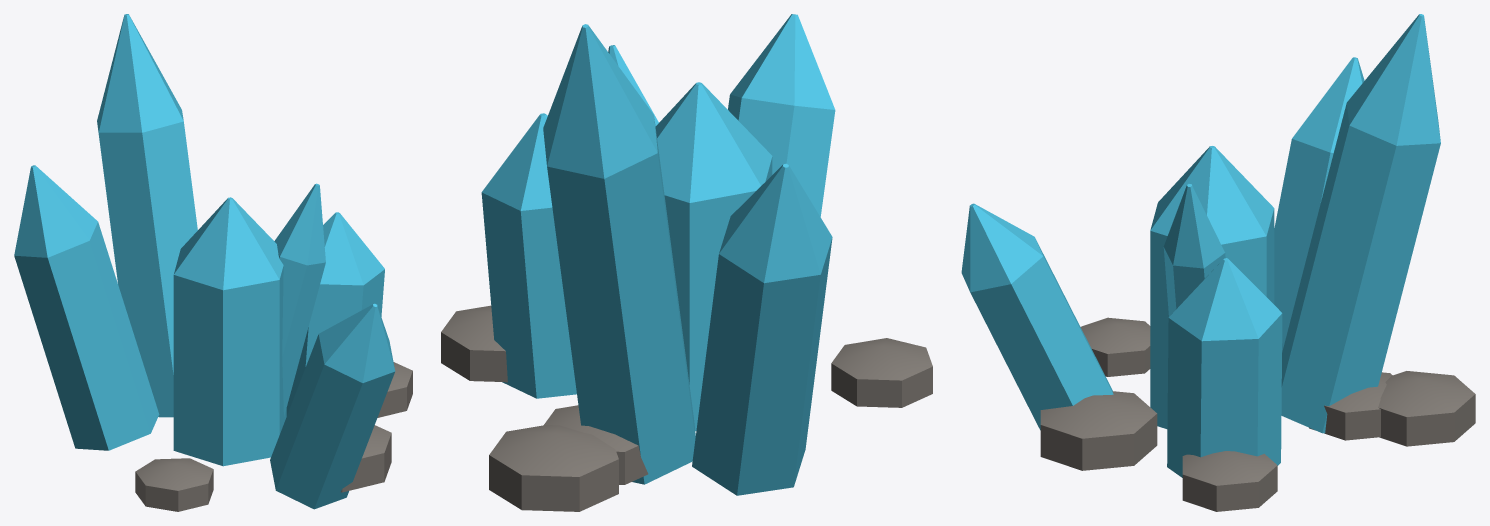
The model's file is crystal_cyan_0.glb.
3 renders of one model, left to right at view 1: azimuth 30°, elevation 25°; view 2: azimuth 150°, elevation 25°; view 3: azimuth 270°, elevation 25°, orthographic. The views are drawn at different scales.
Parts seen in each view (by area): view 1: crystals; view 2: crystals; view 3: crystals.
Boxes of the visible parts, left/top/right/bottom form: crystals: left=14, top=14, right=412, bottom=511; crystals: left=441, top=14, right=932, bottom=511; crystals: left=961, top=14, right=1475, bottom=511.
Bounding box in the file's own units: 3.09 × 3.28 × 3.7.
